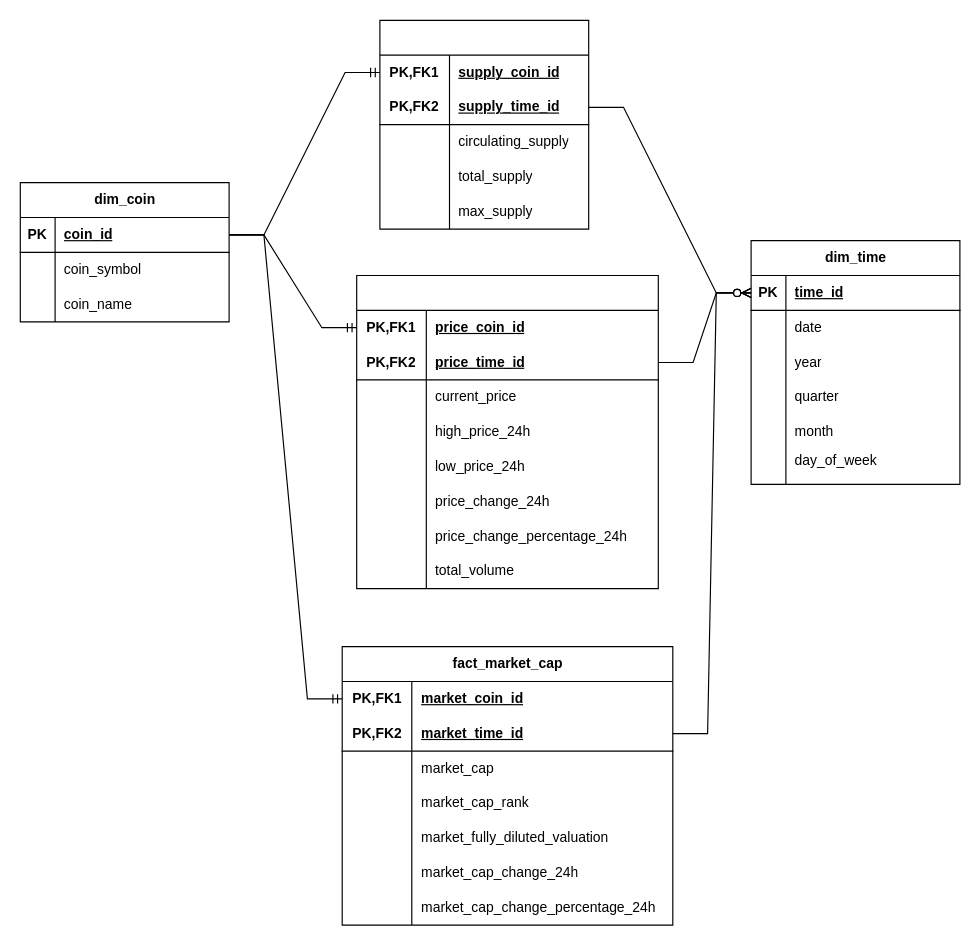
The diagram is 980 pixels wide and 945 high, and some of its shapes have lost their labels. Here are the shapes that lost their labels. From the top down, the box of each, then its label:
(379, 19, 589, 229): fact_supply
(356, 274, 658, 589): fact_price
